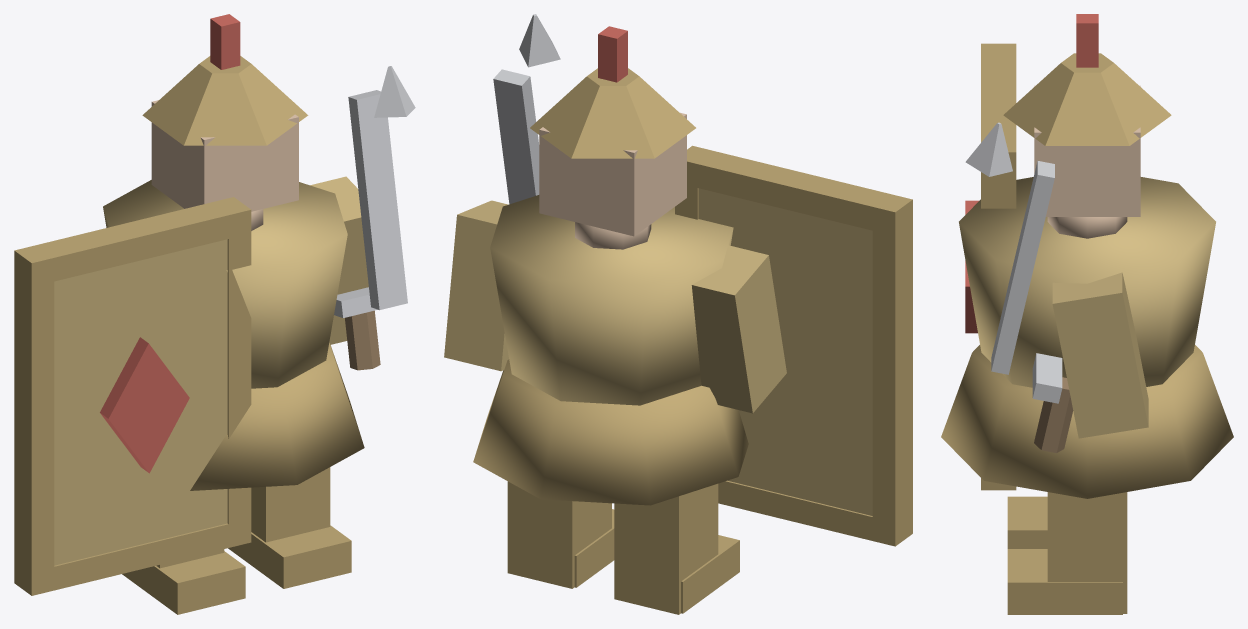
The model's file is troop-shieldbearer.glb.
3 views of the same model, side by side, from view 1: azimuth 30°, elevation 25°; view 2: azimuth 150°, elevation 25°; view 3: azimuth 270°, elevation 25° (orthographic).
Visible parts, largest first — view 1: shield, body, shield_rim_l, skirt, head, helmet, sword_blade, shield_rim_t, shield_boss, shield_rim_r, foot_r, foot_l (+7 smaller); view 2: body, shield, skirt, shield_rim_l, arm_l, head, leg_l, helmet, arm_r, shield_rim_t, leg_r, sword_blade (+7 smaller); view 3: body, skirt, arm_r, helmet, leg_r, head, foot_r, sword_blade, shield_rim_t, foot_l, shield_rim_r, sword_grip (+6 smaller).
Boxes of the visible parts, left/top/right/bottom form: shield: left=54, top=239, right=227, bottom=565; body: left=103, top=180, right=347, bottom=388; shield_rim_l: left=14, top=245, right=54, bottom=595; skirt: left=190, top=342, right=364, bottom=490; head: left=151, top=100, right=298, bottom=211; helmet: left=142, top=56, right=308, bottom=145; sword_blade: left=348, top=90, right=407, bottom=310; shield_rim_t: left=37, top=202, right=237, bottom=284; shield_boss: left=100, top=337, right=189, bottom=473; shield_rim_r: left=211, top=197, right=251, bottom=547; foot_r: left=228, top=525, right=351, bottom=588; foot_l: left=122, top=551, right=245, bottom=614; body: left=490, top=195, right=733, bottom=405; shield: left=698, top=188, right=872, bottom=515; skirt: left=473, top=359, right=748, bottom=505; shield_rim_l: left=872, top=194, right=912, bottom=546; arm_l: left=691, top=245, right=786, bottom=413; head: left=539, top=112, right=686, bottom=236; leg_l: left=614, top=483, right=718, bottom=614; helmet: left=530, top=68, right=695, bottom=158; arm_r: left=444, top=200, right=508, bottom=371; shield_rim_t: left=687, top=151, right=889, bottom=233; leg_r: left=507, top=481, right=611, bottom=588; sword_blade: left=493, top=69, right=539, bottom=204; body: left=959, top=177, right=1215, bottom=387; skirt: left=941, top=345, right=1233, bottom=498; arm_r: left=1052, top=272, right=1148, bottom=438; helmet: left=1003, top=53, right=1171, bottom=145; leg_r: left=1047, top=492, right=1127, bottom=613; head: left=1034, top=85, right=1140, bottom=216; foot_r: left=1007, top=549, right=1122, bottom=614; sword_blade: left=991, top=160, right=1054, bottom=374; shield_rim_t: left=981, top=55, right=1016, bottom=140; foot_l: left=1007, top=496, right=1047, bottom=548; shield_rim_r: left=981, top=141, right=1016, bottom=490; sword_grip: left=1034, top=377, right=1073, bottom=453.
Bounding box in the file's own units: 0.21 × 0.275 × 0.132.
